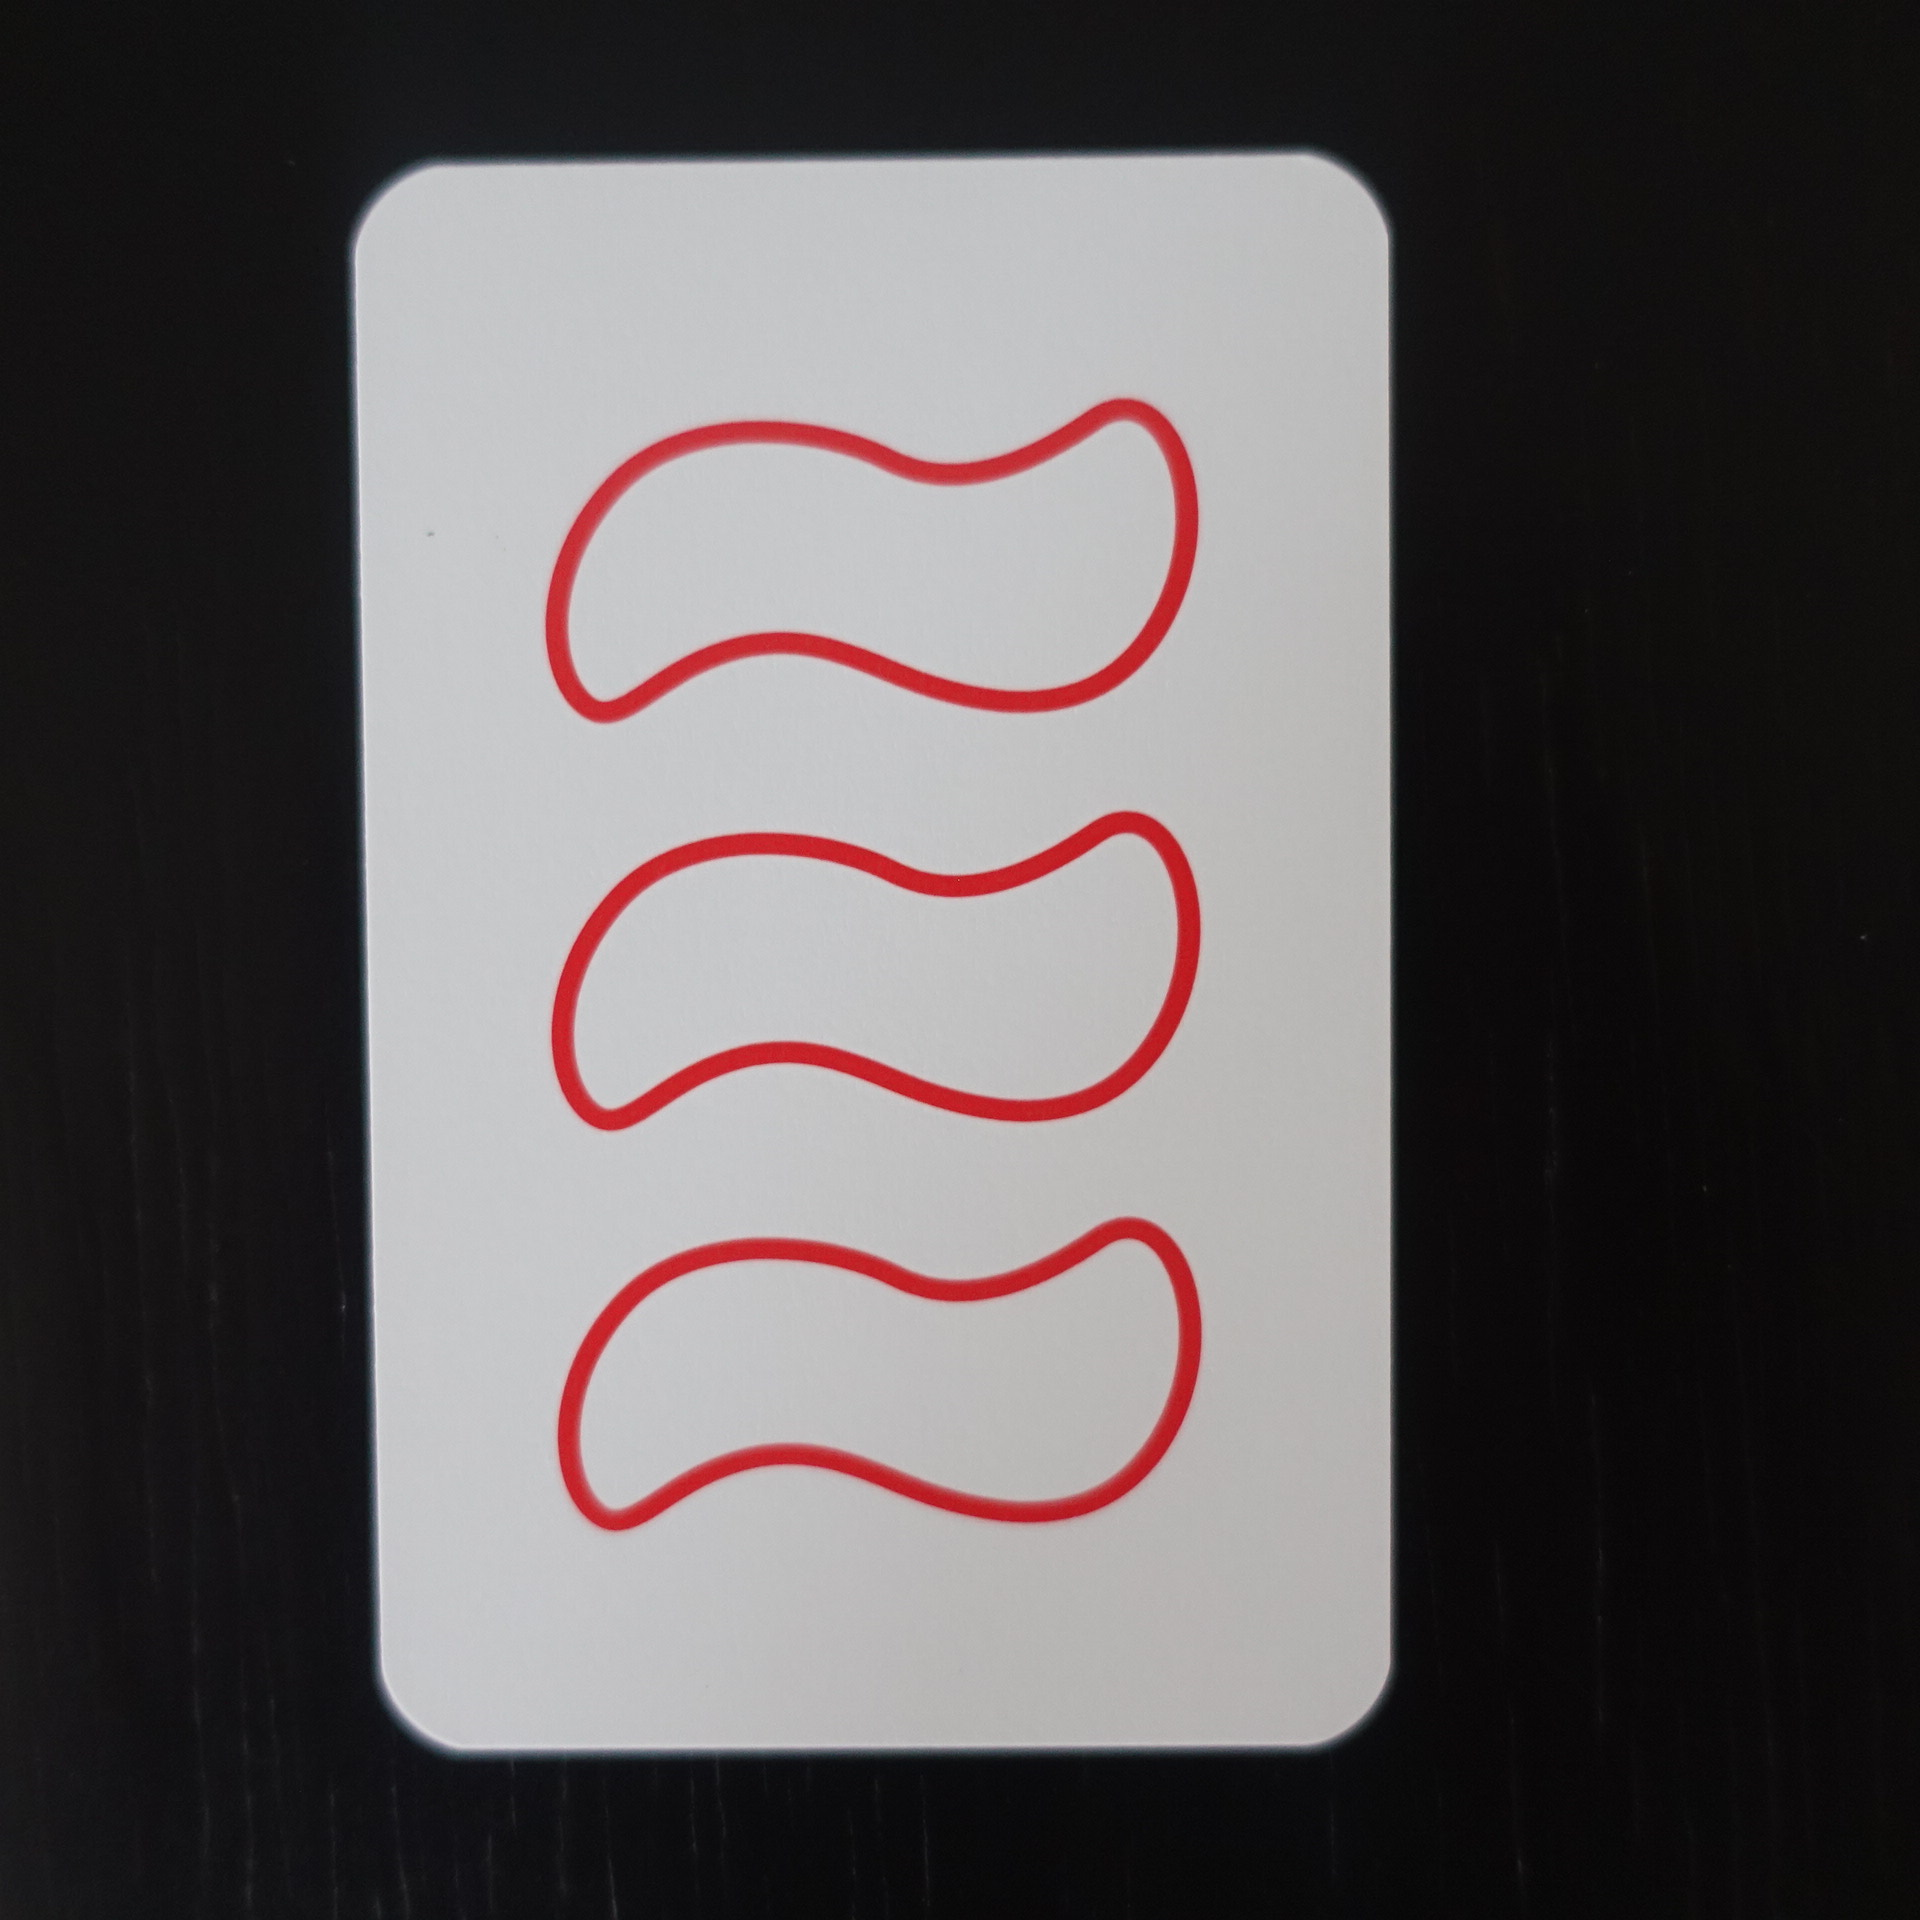c-3-u-s-r: (324, 128, 1431, 1786)
